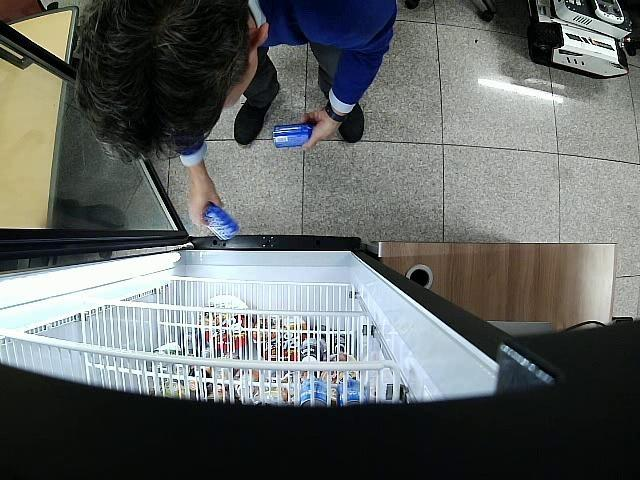13_pocariSweat: (204, 204, 240, 240), (272, 122, 314, 148)
